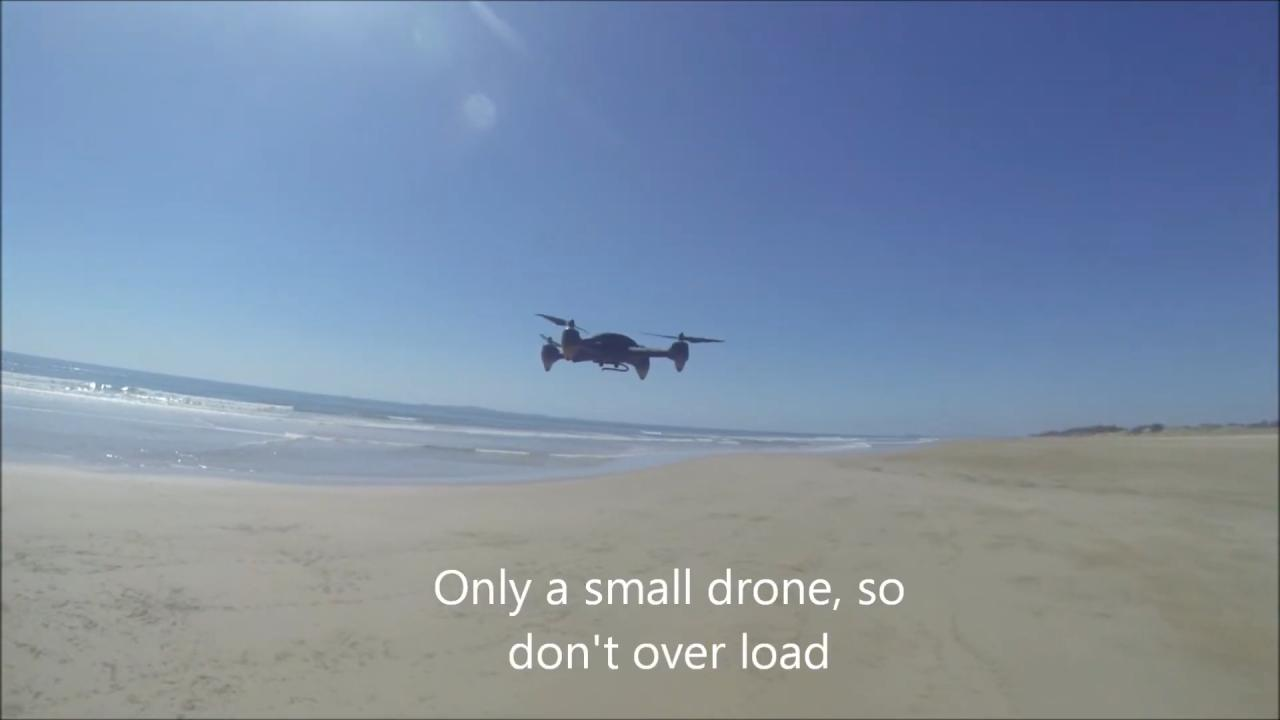Drone: (522, 302, 736, 393)
